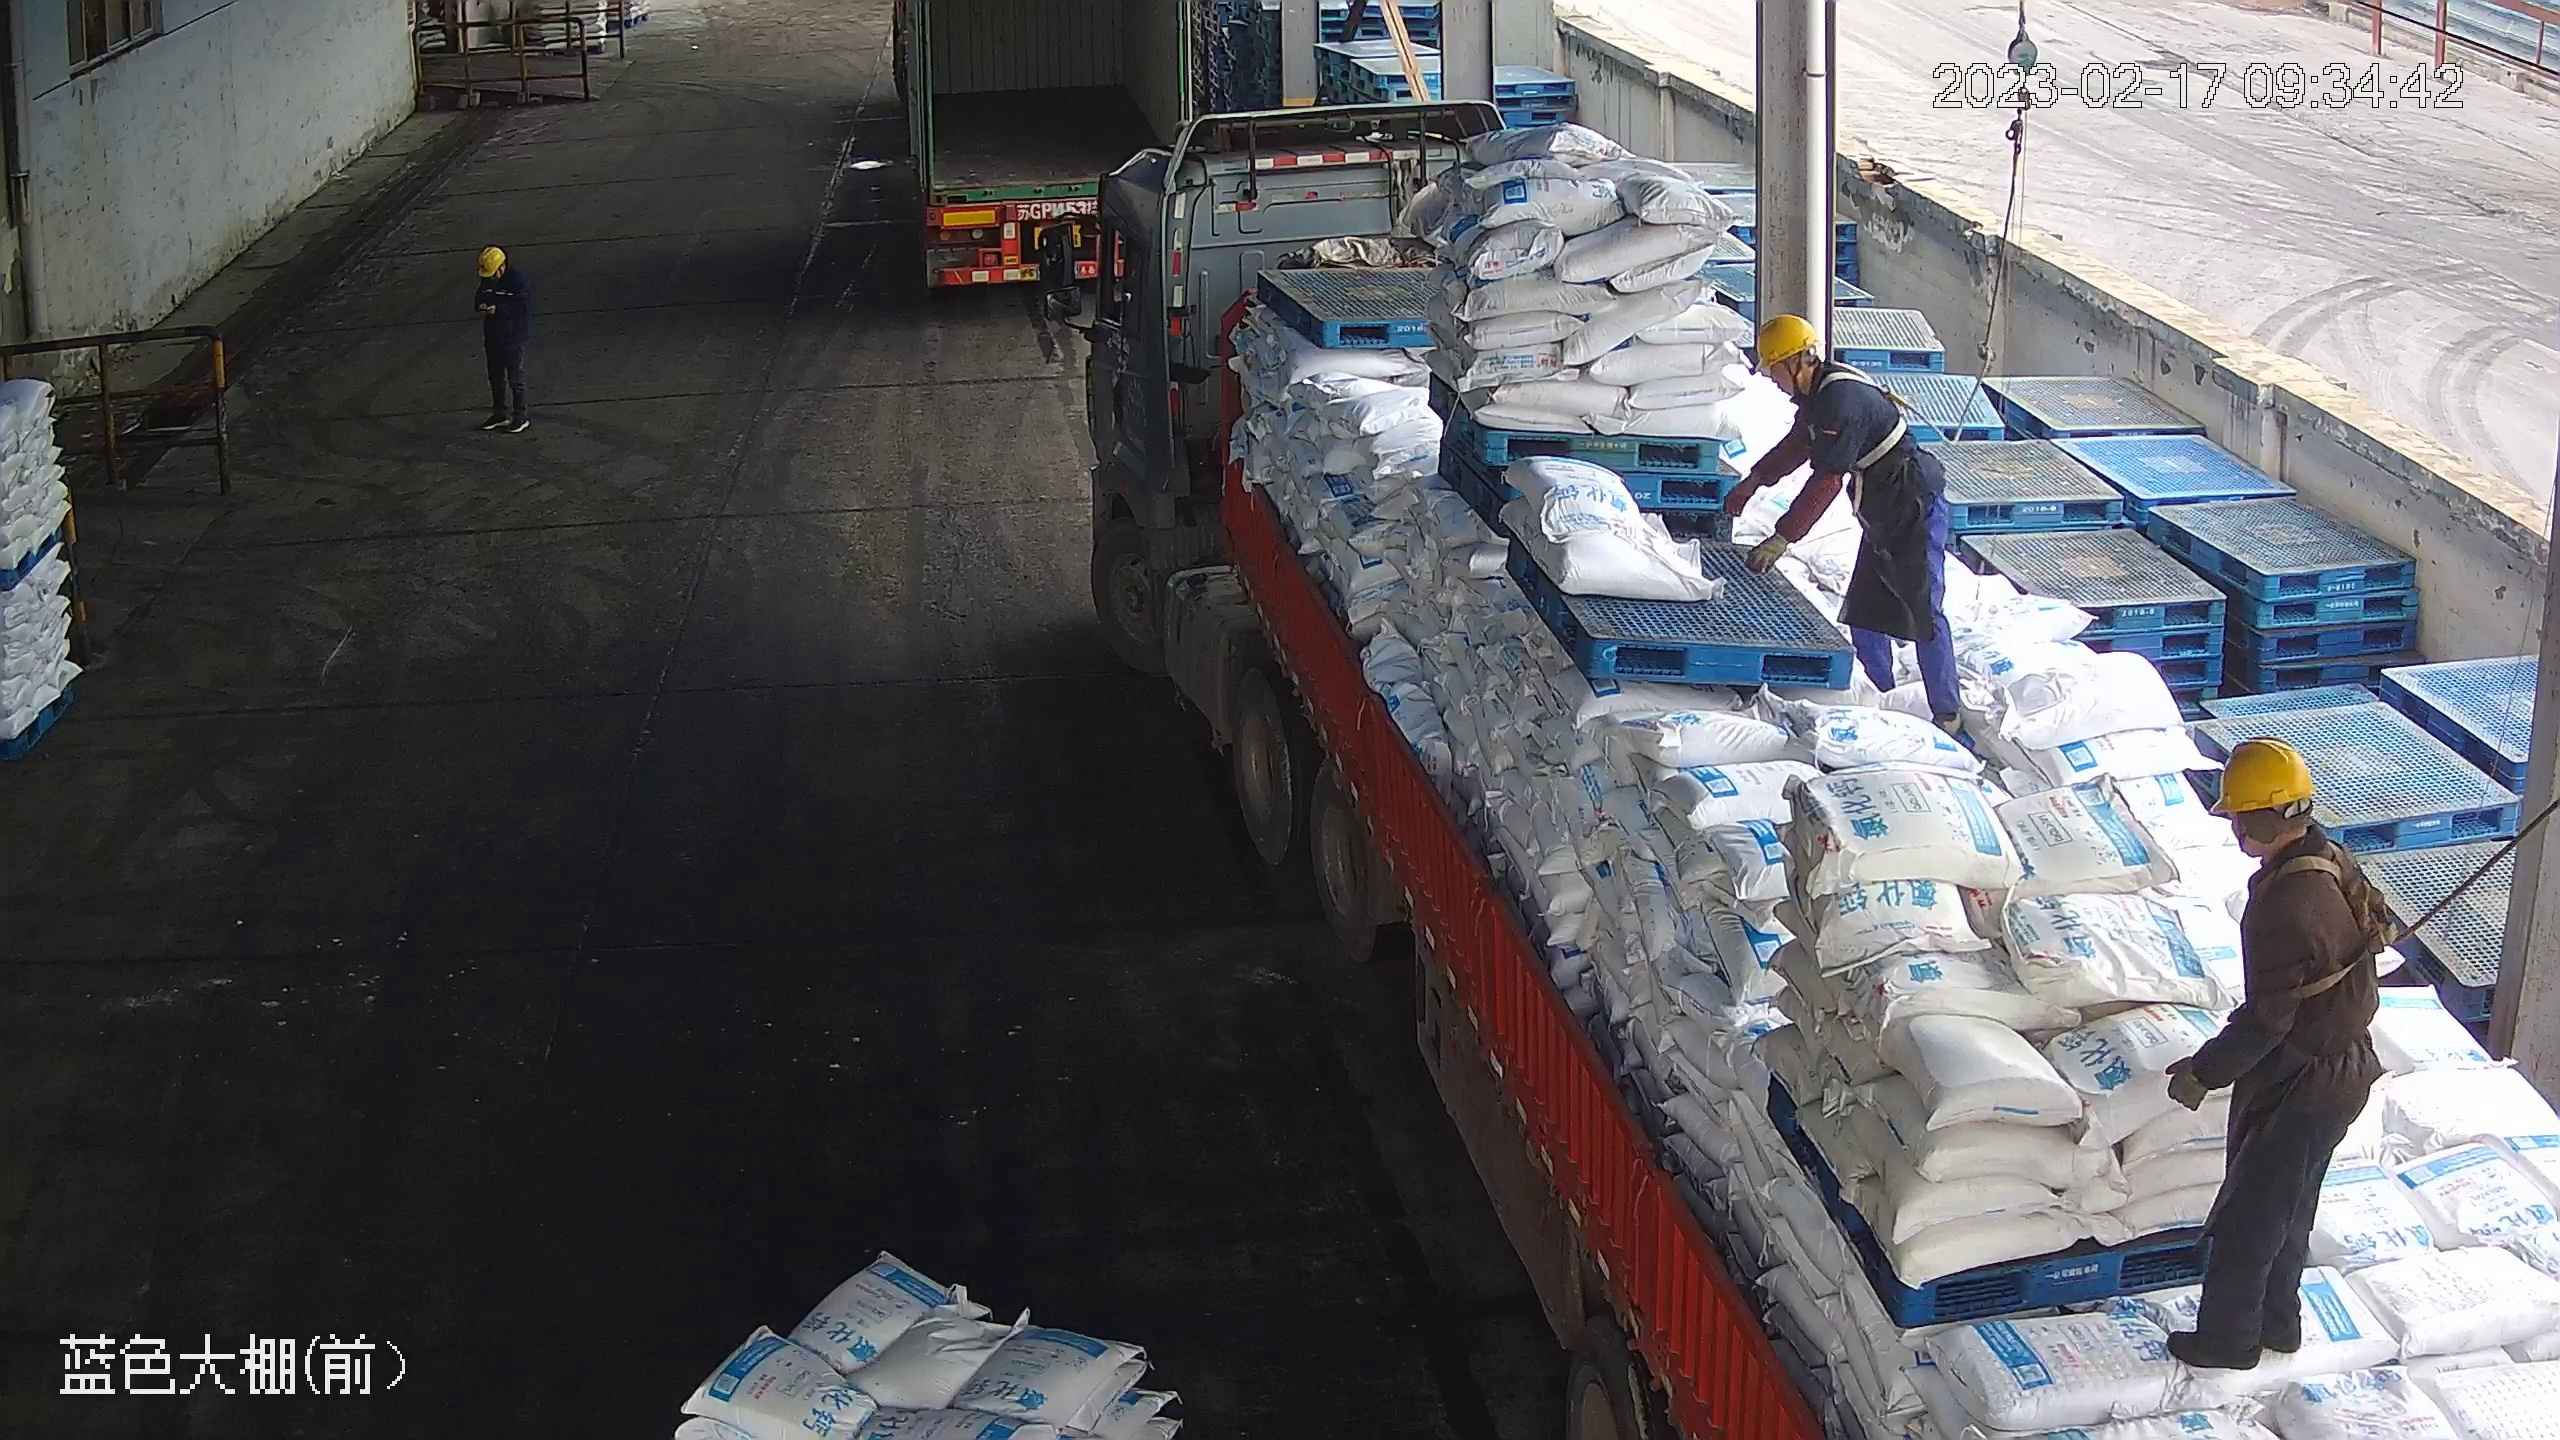belt: (2259, 844, 2406, 1000), (1818, 362, 1920, 468)
head: (2199, 733, 2378, 921), (1754, 314, 1888, 436), (473, 246, 527, 302)
helmet: (2206, 734, 2320, 814), (1753, 310, 1824, 368), (474, 247, 504, 274)
people: (2148, 736, 2395, 1374), (1728, 310, 1971, 732), (472, 245, 534, 435)
truck: (1051, 104, 2546, 1437), (884, 1, 1198, 294)
